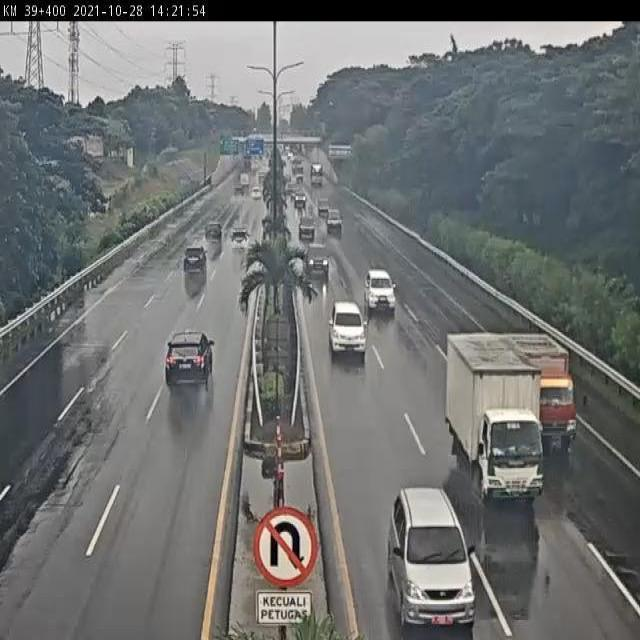car: (386, 483, 480, 633), (164, 329, 217, 388), (329, 302, 367, 358), (365, 269, 397, 312), (179, 248, 205, 281), (305, 242, 331, 274), (229, 228, 252, 255), (203, 223, 222, 244)
truck-m-: (447, 335, 545, 504)
truck-s-: (508, 333, 578, 451)
